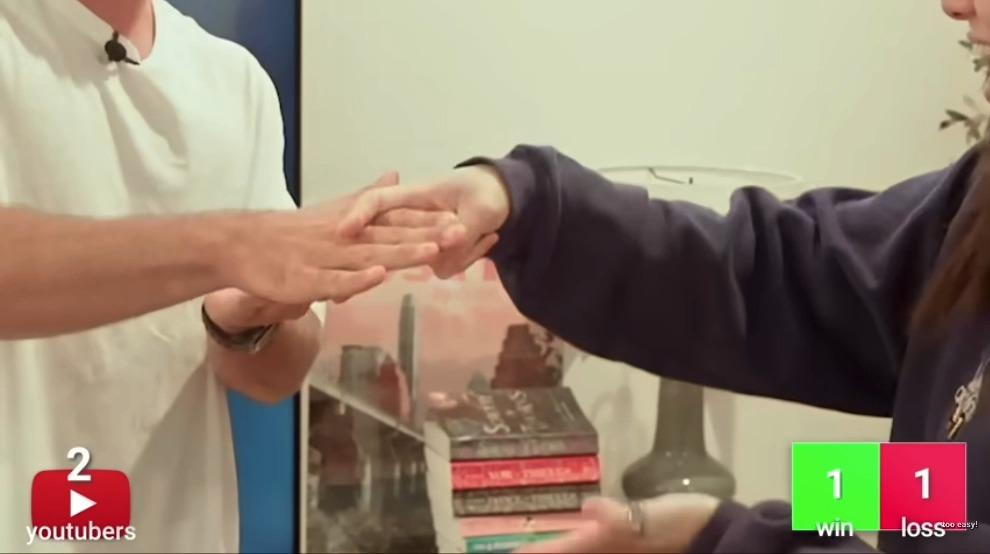Paper: (208, 166, 457, 311)
Scissors: (354, 166, 499, 273)
